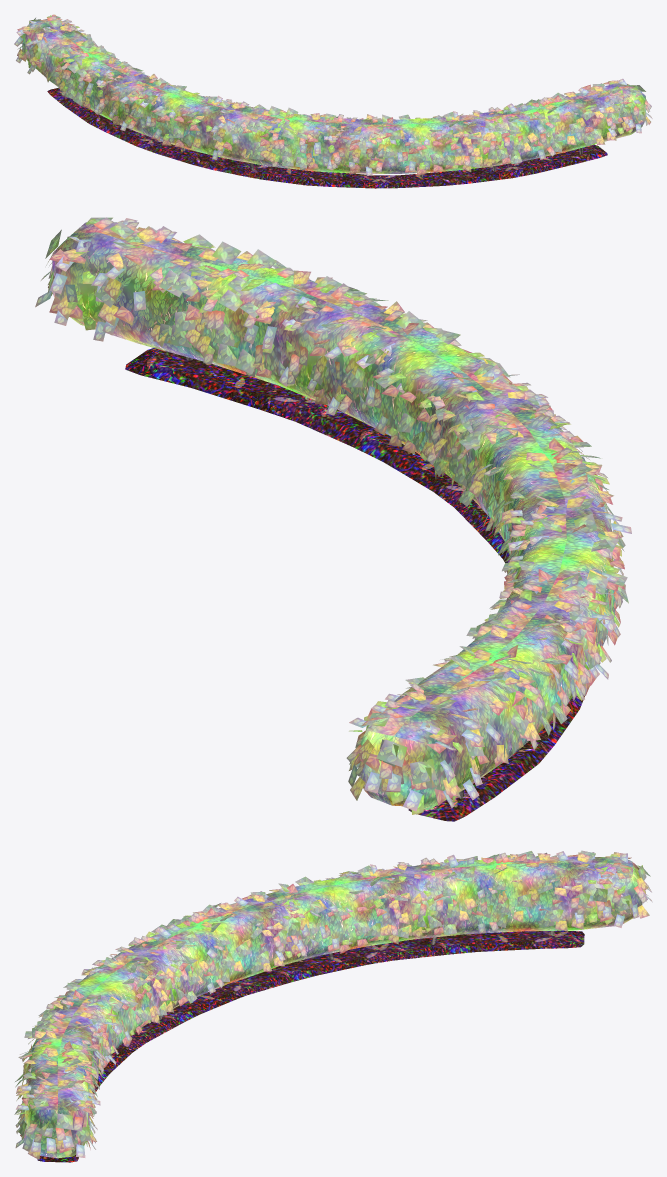
File: hedge_small_SM.fbx
3 renders of one model, top to bottom at view 1: azimuth 30°, elevation 25°; view 2: azimuth 150°, elevation 25°; view 3: azimuth 270°, elevation 25°, orthographic. The views are drawn at different scales.
Visible parts, largest first — view 1: hedge_small_SM_LOD0; view 2: hedge_small_SM_LOD0; view 3: hedge_small_SM_LOD0.
Part boxes in pixels (x1=…): hedge_small_SM_LOD0: x1=14, y1=14, x2=652, y2=188; hedge_small_SM_LOD0: x1=35, y1=217, x2=631, y2=821; hedge_small_SM_LOD0: x1=14, y1=850, x2=652, y2=1162.
Size of the model in its own units: 903 by 903 by 137.
Materials: 3 (3 with a texture image).
